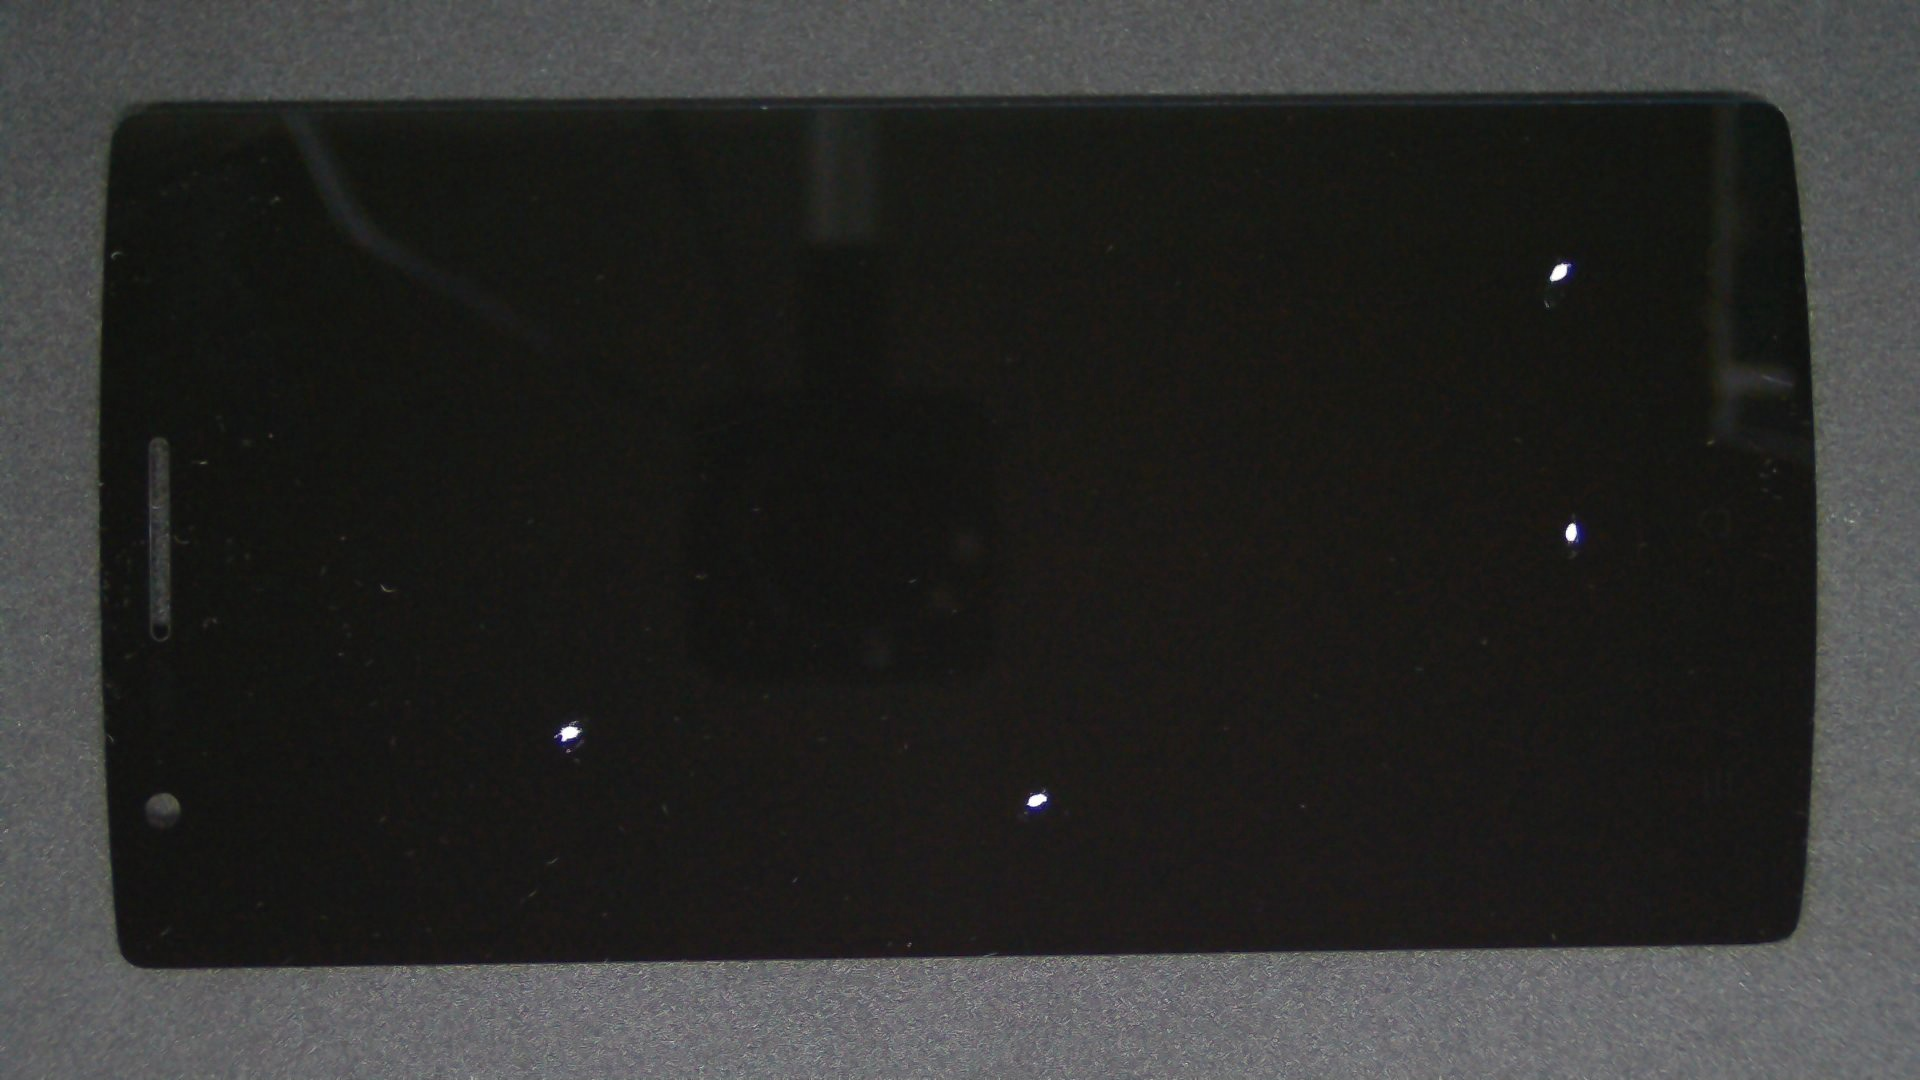oil: (522, 393, 1564, 1080), (786, 260, 1920, 782), (290, 360, 866, 1080), (290, 369, 869, 1080), (782, 131, 1920, 392)
